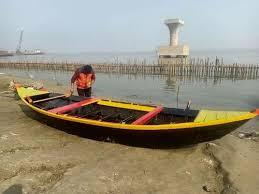fishing boat: (10, 62, 259, 152)
